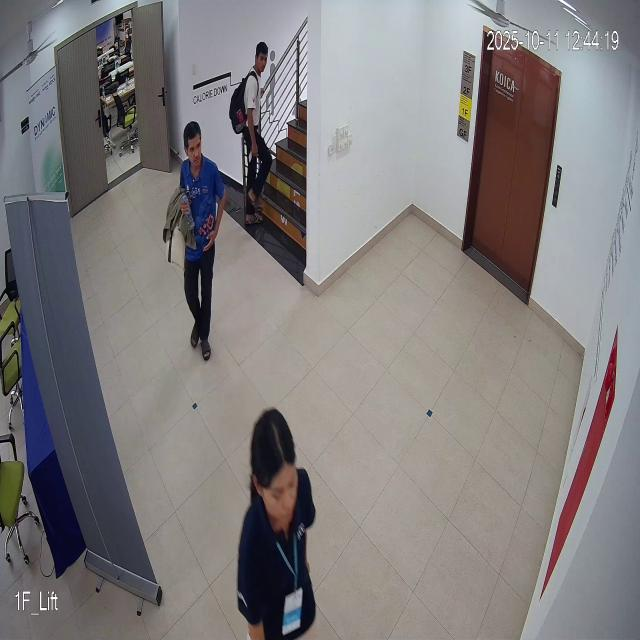face: (180, 118, 208, 178)
